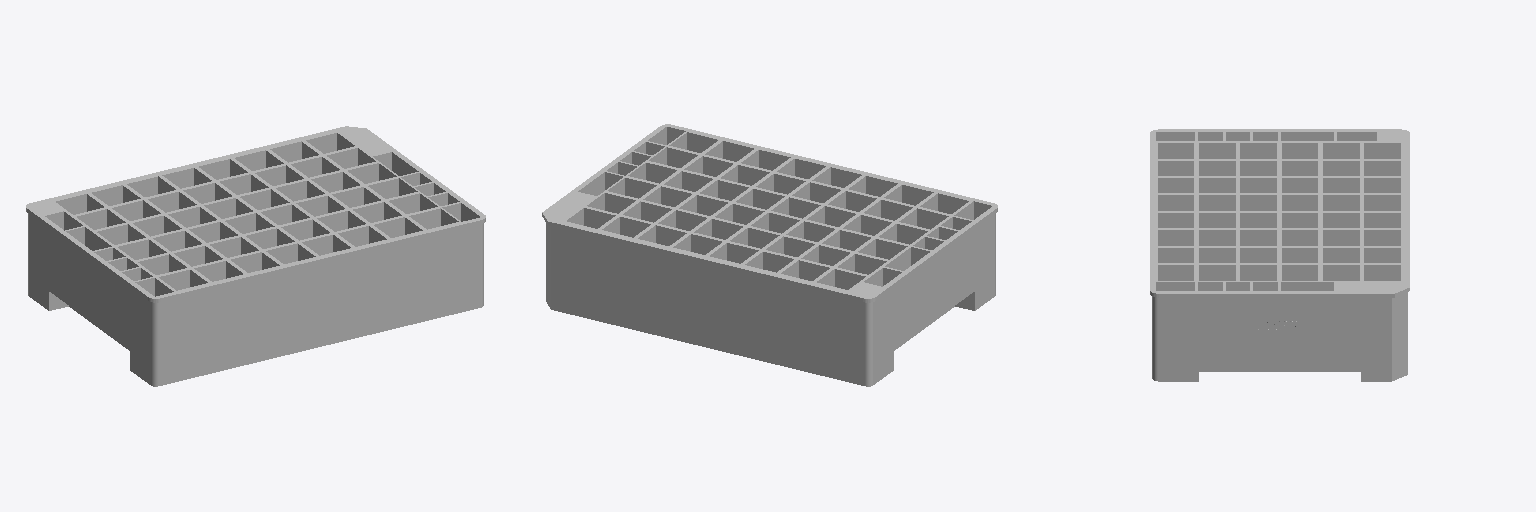
3 renders of one model, left to right at view 1: azimuth 30°, elevation 25°; view 2: azimuth 150°, elevation 25°; view 3: azimuth 270°, elevation 25°, orthographic.
Visible parts, largest first — view 1: 冻存盒2mmL百伴; view 2: 冻存盒2mmL百伴; view 3: 冻存盒2mmL百伴.
Part boxes in pixels (x1,y1,x2,y2): 冻存盒2mmL百伴: (26, 126, 485, 386); 冻存盒2mmL百伴: (542, 124, 997, 386); 冻存盒2mmL百伴: (1150, 129, 1409, 381).
Size of the model in its own units: 0.127 by 0.032 by 0.085.